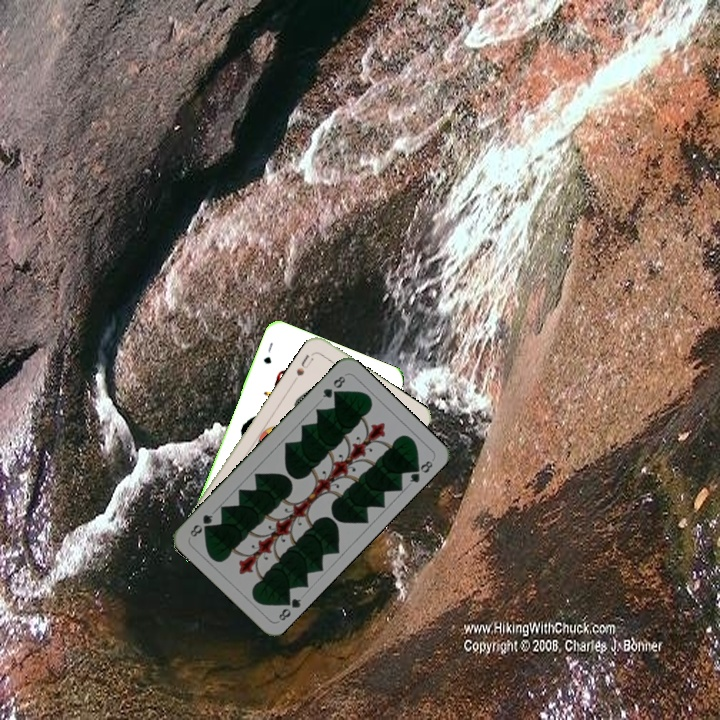G8: (274, 592, 304, 623), (318, 372, 348, 401)
GU: (259, 338, 276, 366)
SU: (289, 349, 317, 385)
